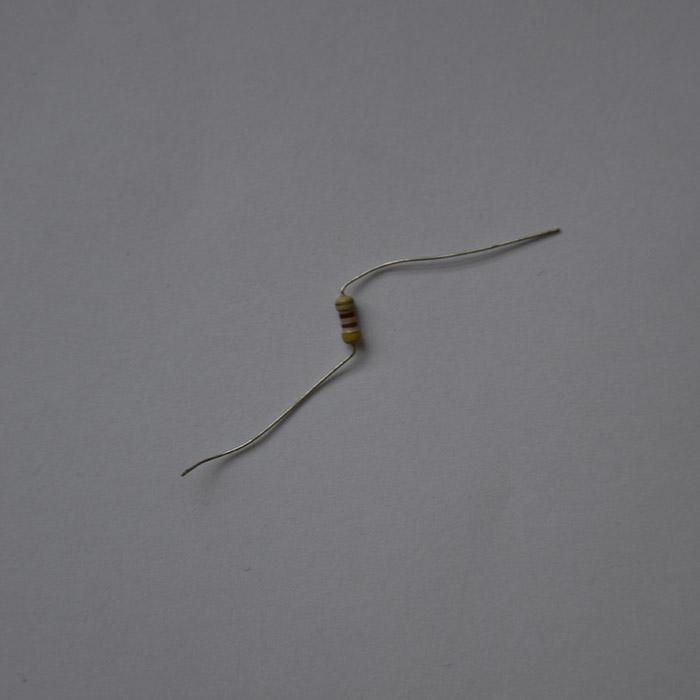resistor: (334, 293, 362, 343)
